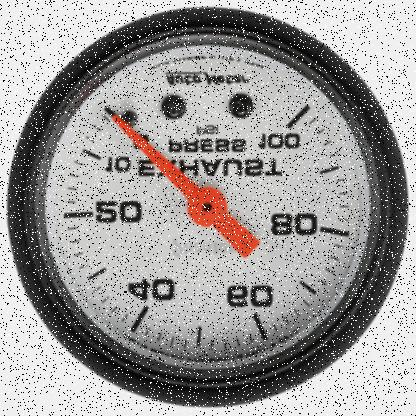needle: (111, 112, 201, 201)
